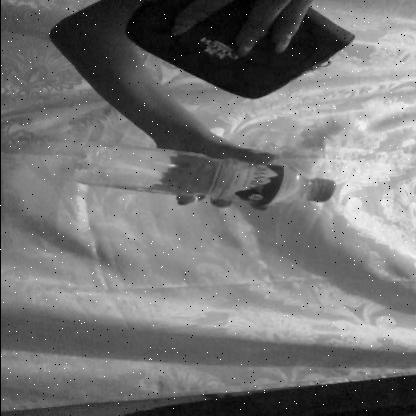Plastic Bottle: (48, 131, 363, 217)
